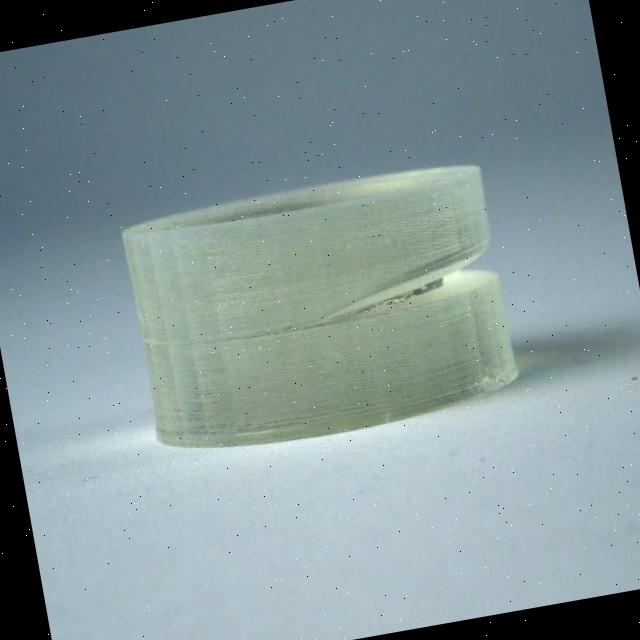cracks: (306, 240, 502, 343)
